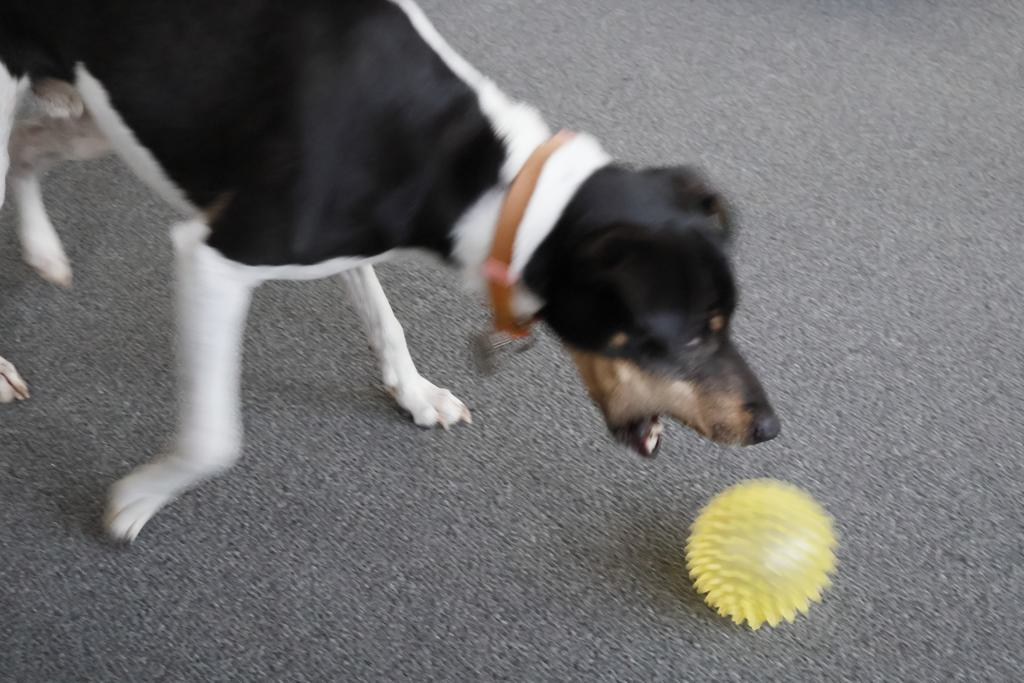Dog: (0, 0, 792, 557)
